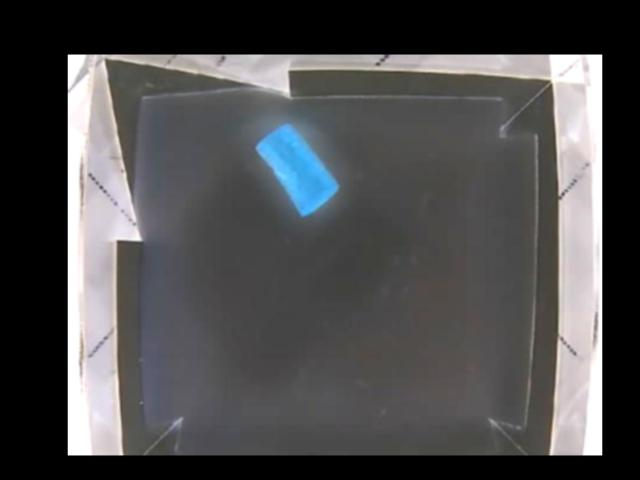Carrot: (254, 124, 340, 216)
